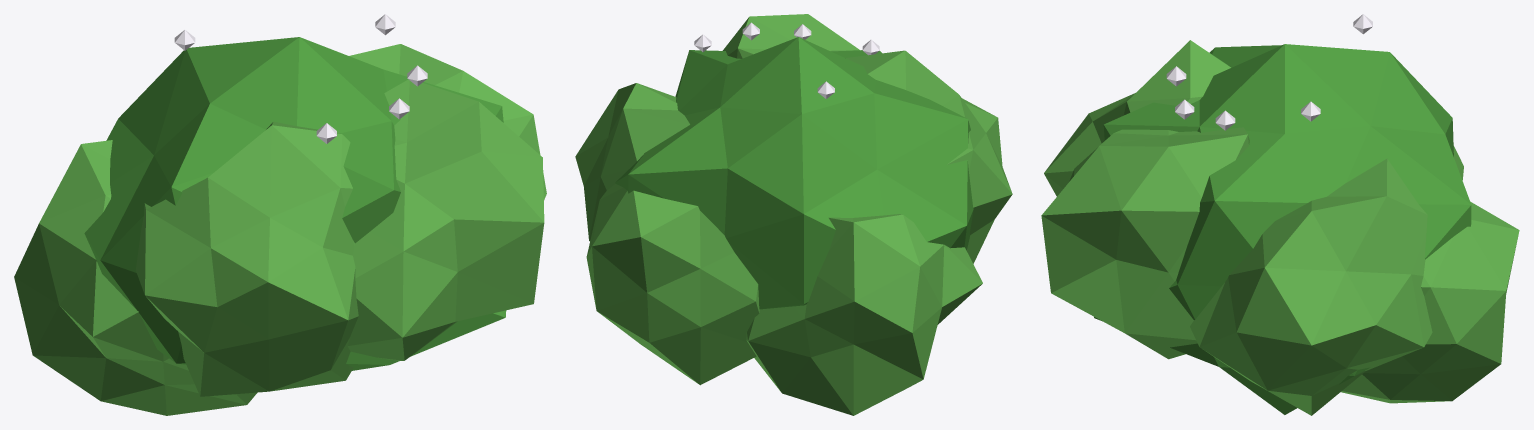
File: basil.glb
3 views of the same model, side by side, from view 1: azimuth 30°, elevation 25°; view 2: azimuth 150°, elevation 25°; view 3: azimuth 270°, elevation 25° (orthographic). The views are drawn at different scales.
Visible parts, largest first — view 1: basil; view 2: basil; view 3: basil.
Boxes of the visible parts, bbox=[...] form: basil: bbox=[14, 14, 546, 415]; basil: bbox=[575, 14, 1012, 415]; basil: bbox=[1041, 14, 1519, 415].
Size of the model in its own units: 0.5433 by 0.4275 by 0.5073.
